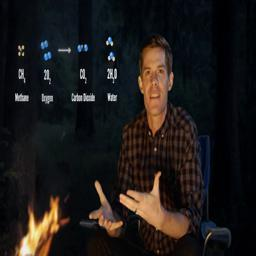fire: (16, 195, 70, 256)
